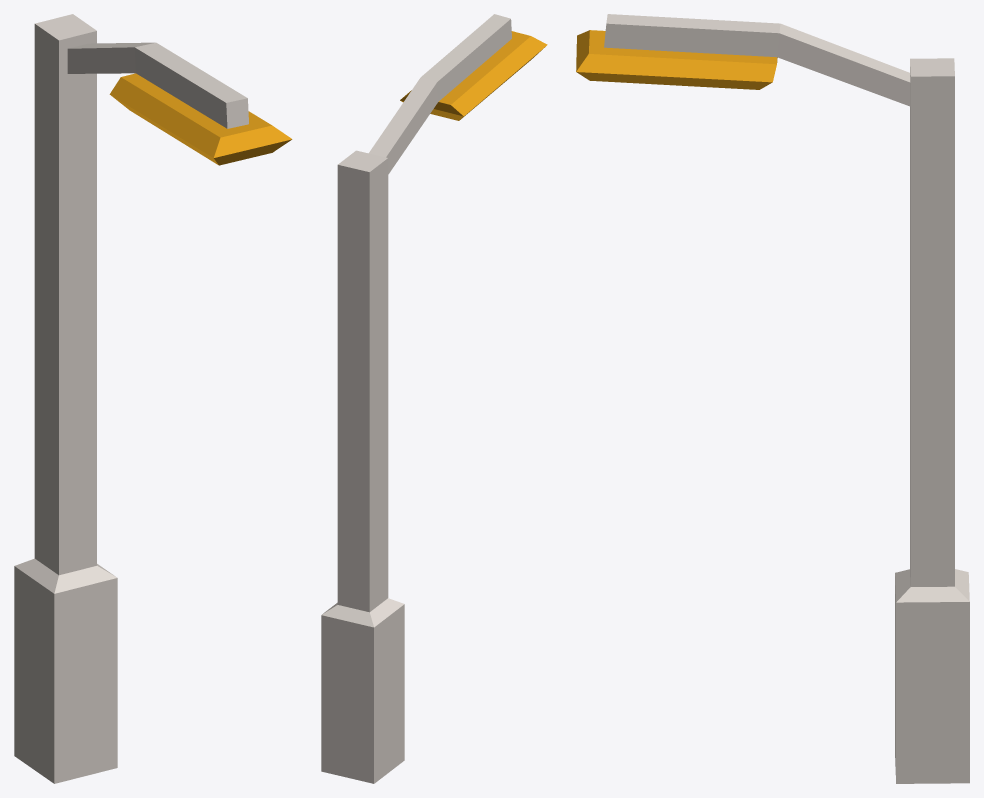
File: lamp post.fbx
3 views of the same model, side by side, from view 1: azimuth 30°, elevation 25°; view 2: azimuth 150°, elevation 25°; view 3: azimuth 270°, elevation 25° (orthographic). The views are drawn at different scales.
Visible parts, largest first — view 1: pCube112; view 2: pCube112; view 3: pCube112.
Boxes of the visible parts, bbox=[...] form: pCube112: bbox=[14, 14, 292, 783]; pCube112: bbox=[321, 14, 547, 783]; pCube112: bbox=[576, 14, 969, 783].
Size of the model in its own units: 1.32 by 12.46 by 5.92.
